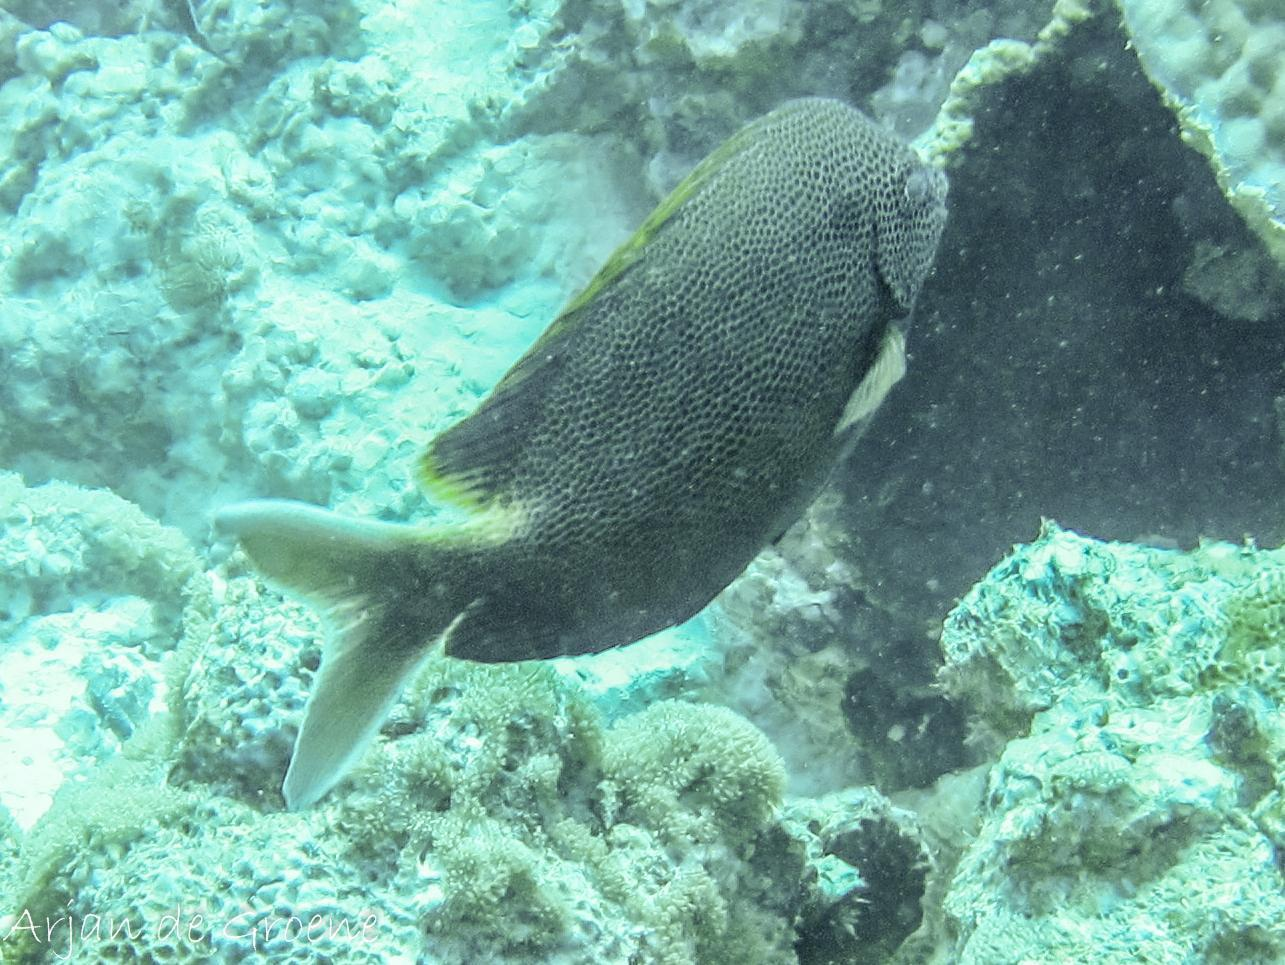Fish: (206, 77, 967, 824)
